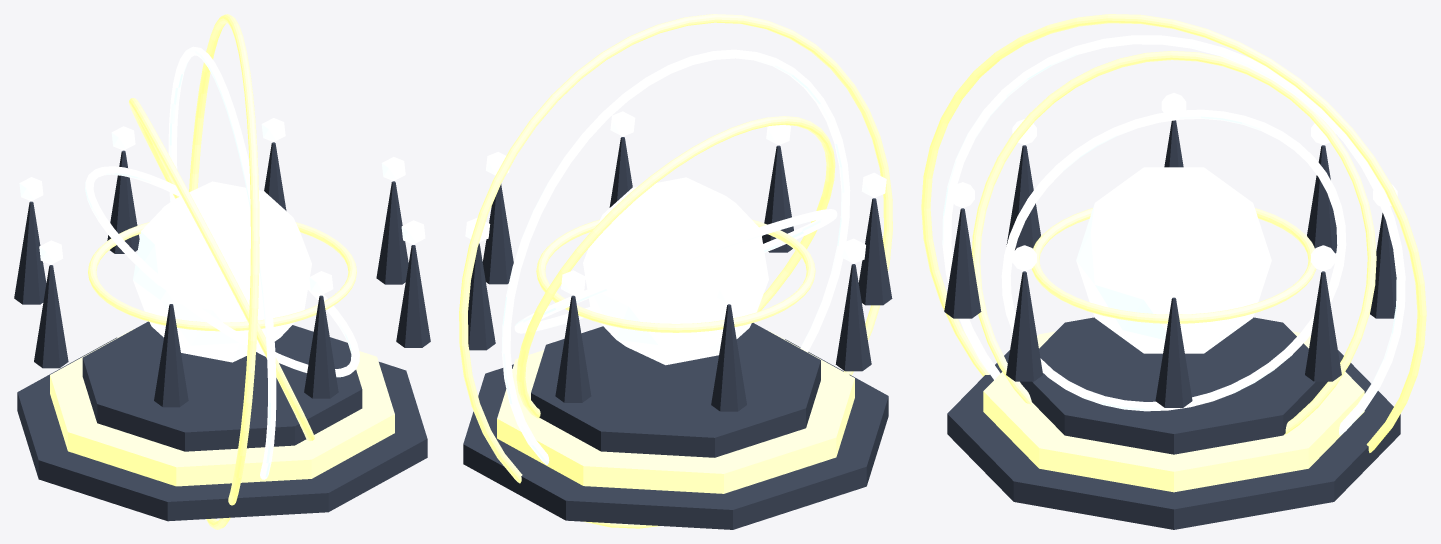
File: gpu-blender-v11.glb
The picture shows the model from 3 angles, left to right: view 1: azimuth 30°, elevation 25°; view 2: azimuth 150°, elevation 25°; view 3: azimuth 270°, elevation 25°; orthographic projection. The views are drawn at different scales.
Parts seen in each view (by area): view 1: Cylinder.002, Cylinder, SovereignCore_zothos-lite, Cylinder.001, Torus.004, Torus.003, Torus.001, Torus.002, Torus, Cone.005, Cone.004, Cone.006 (+5 smaller); view 2: Cylinder.002, SovereignCore_zothos-lite, Cylinder, Cylinder.001, Torus.004, Torus.003, Torus.002, Torus.001, Torus, Cone.004, Cone.003, Cone.002 (+5 smaller); view 3: SovereignCore_zothos-lite, Cylinder.002, Cylinder, Cylinder.001, Torus.004, Torus.003, Torus.002, Torus.001, Torus, Cone.006, Cone.001, Cone.007 (+5 smaller).
Boxes of the visible parts, x1=… form: Cylinder.002: x1=82, y1=321, x2=362, y2=451; Cylinder: x1=17, y1=337, x2=427, y2=521; SovereignCore_zothos-lite: x1=133, y1=181, x2=311, y2=362; Cylinder.001: x1=50, y1=329, x2=394, y2=486; Torus.004: x1=189, y1=14, x2=259, y2=529; Torus.003: x1=168, y1=46, x2=276, y2=479; Torus.001: x1=85, y1=166, x2=359, y2=377; Torus.002: x1=129, y1=98, x2=314, y2=440; Torus: x1=88, y1=222, x2=356, y2=331; Cone.005: x1=154, y1=304, x2=188, y2=407; Cone.004: x1=34, y1=265, x2=68, y2=368; Cone.006: x1=304, y1=295, x2=338, y2=398; Cylinder.002: x1=531, y1=323, x2=820, y2=457; SovereignCore_zothos-lite: x1=583, y1=177, x2=768, y2=365; Cylinder: x1=463, y1=339, x2=888, y2=529; Cylinder.001: x1=497, y1=330, x2=854, y2=493; Torus.004: x1=459, y1=14, x2=892, y2=528; Torus.003: x1=501, y1=49, x2=850, y2=464; Torus.002: x1=516, y1=116, x2=835, y2=418; Torus.001: x1=514, y1=209, x2=837, y2=333; Torus: x1=536, y1=219, x2=815, y2=332; Cone.004: x1=835, y1=264, x2=871, y2=371; Cone.003: x1=711, y1=304, x2=746, y2=411; Cone.002: x1=555, y1=295, x2=591, y2=402; SovereignCore_zothos-lite: x1=1076, y1=167, x2=1271, y2=353; Cylinder.002: x1=1020, y1=317, x2=1327, y2=454; Cylinder: x1=947, y1=350, x2=1400, y2=529; Cylinder.001: x1=983, y1=331, x2=1364, y2=492; Torus.004: x1=921, y1=14, x2=1426, y2=452; Torus.003: x1=942, y1=35, x2=1405, y2=435; Torus.002: x1=972, y1=50, x2=1376, y2=434; Torus.001: x1=1001, y1=109, x2=1346, y2=411; Torus: x1=1031, y1=208, x2=1316, y2=323; Cone.006: x1=944, y1=208, x2=981, y2=318; Cone.001: x1=1305, y1=271, x2=1341, y2=381; Cone.007: x1=1006, y1=271, x2=1042, y2=381.
Bounding box in the file's own units: 4.41 × 5.33 × 4.9.
